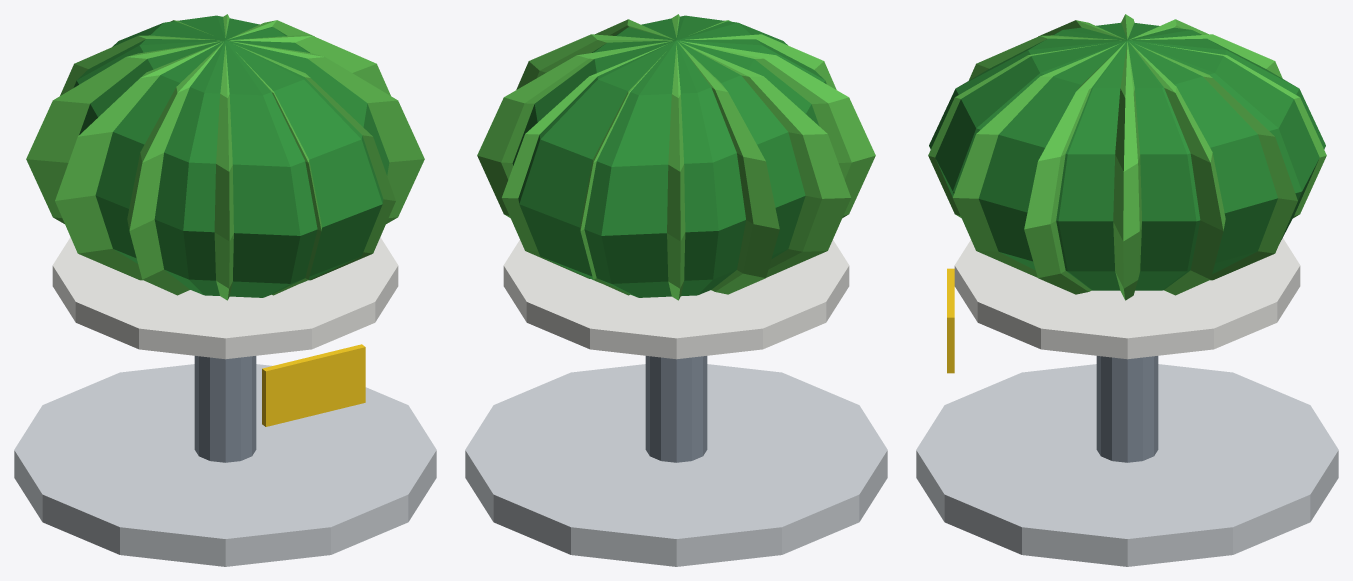
File: item-watermelon.glb
3 views of the same model, side by side, from view 1: azimuth 30°, elevation 25°; view 2: azimuth 150°, elevation 25°; view 3: azimuth 270°, elevation 25° (orthographic).
Visible parts, largest first — view 1: item-watermelon; view 2: item-watermelon; view 3: item-watermelon.
Boxes of the visible parts, left/top/right/bottom form: item-watermelon: left=14, top=14, right=436, bottom=566; item-watermelon: left=465, top=14, right=887, bottom=566; item-watermelon: left=916, top=14, right=1338, bottom=566.
Bounding box in the file's own units: 1.1 × 1.26 × 1.1.
